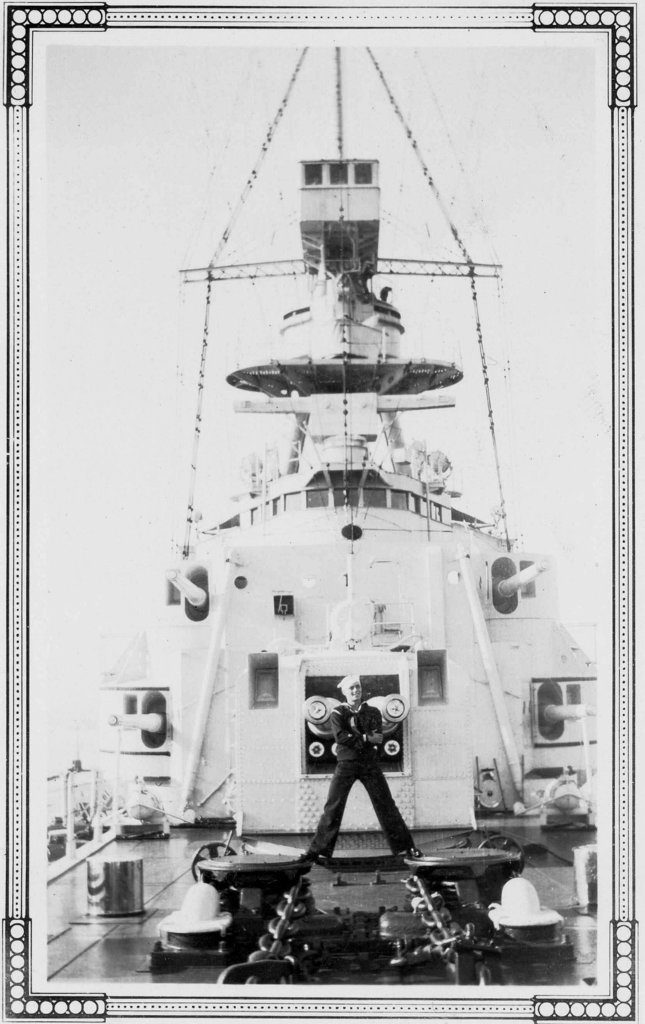person: (300, 671, 424, 863)
